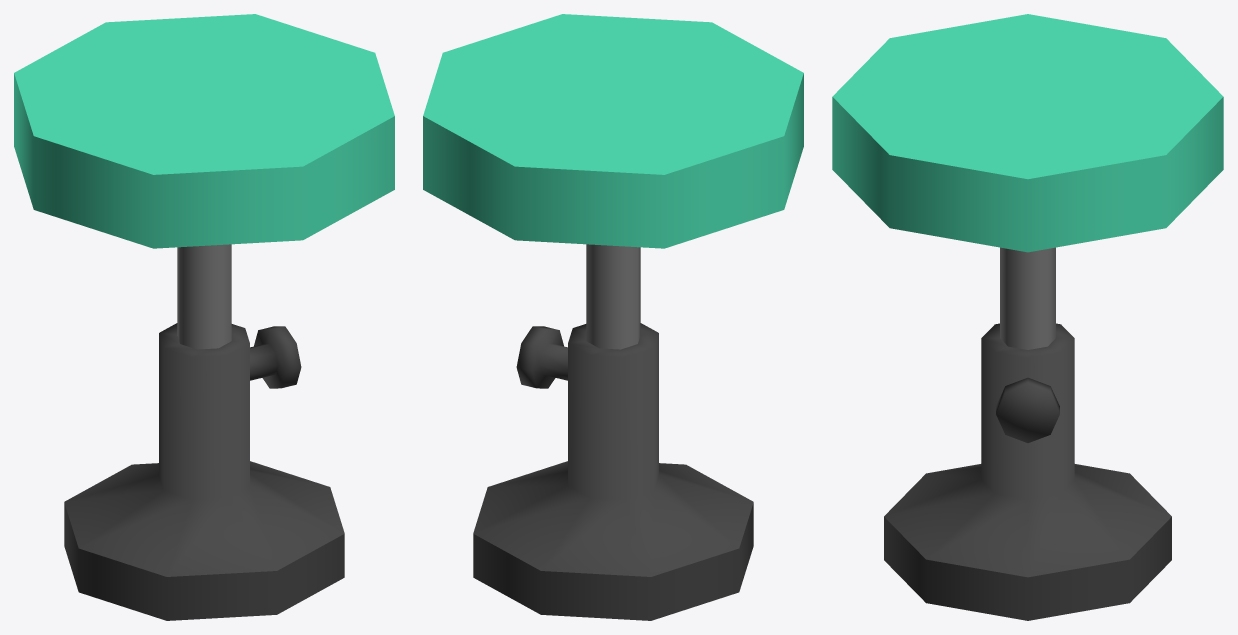
File: Banco.fbx
3 renders of one model, left to right at view 1: azimuth 30°, elevation 25°; view 2: azimuth 150°, elevation 25°; view 3: azimuth 270°, elevation 25°, orthographic.
Parts seen in each view (by area): view 1: chair; view 2: chair; view 3: chair.
Boxes of the visible parts, x1,y1,x2,y2 form: chair: (14,14,394,620); chair: (423,14,803,620); chair: (832,14,1223,620).
Size of the model in its own units: 145 by 189 by 145.
